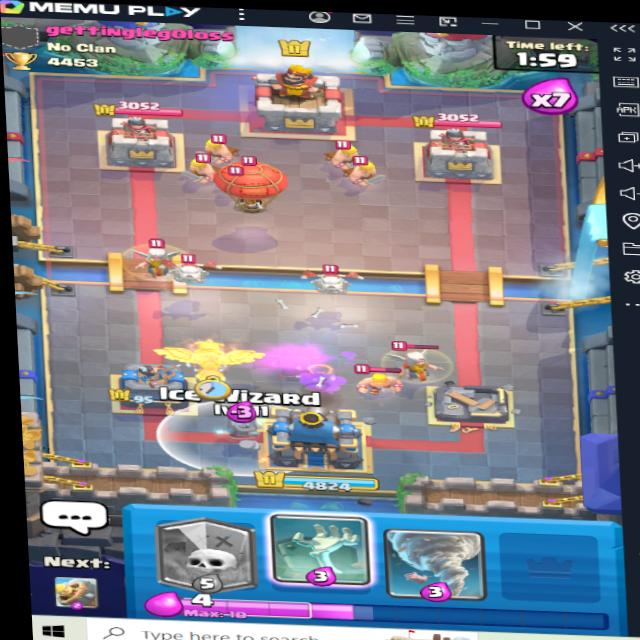balloon: (214, 153, 288, 215)
barbarian: (356, 362, 402, 401), (173, 152, 230, 180), (335, 157, 384, 189), (199, 131, 245, 165), (318, 140, 368, 165)
battle-healer: (375, 339, 455, 388), (123, 231, 189, 283)
skeleton-dragon: (297, 257, 371, 293), (160, 246, 224, 285)
